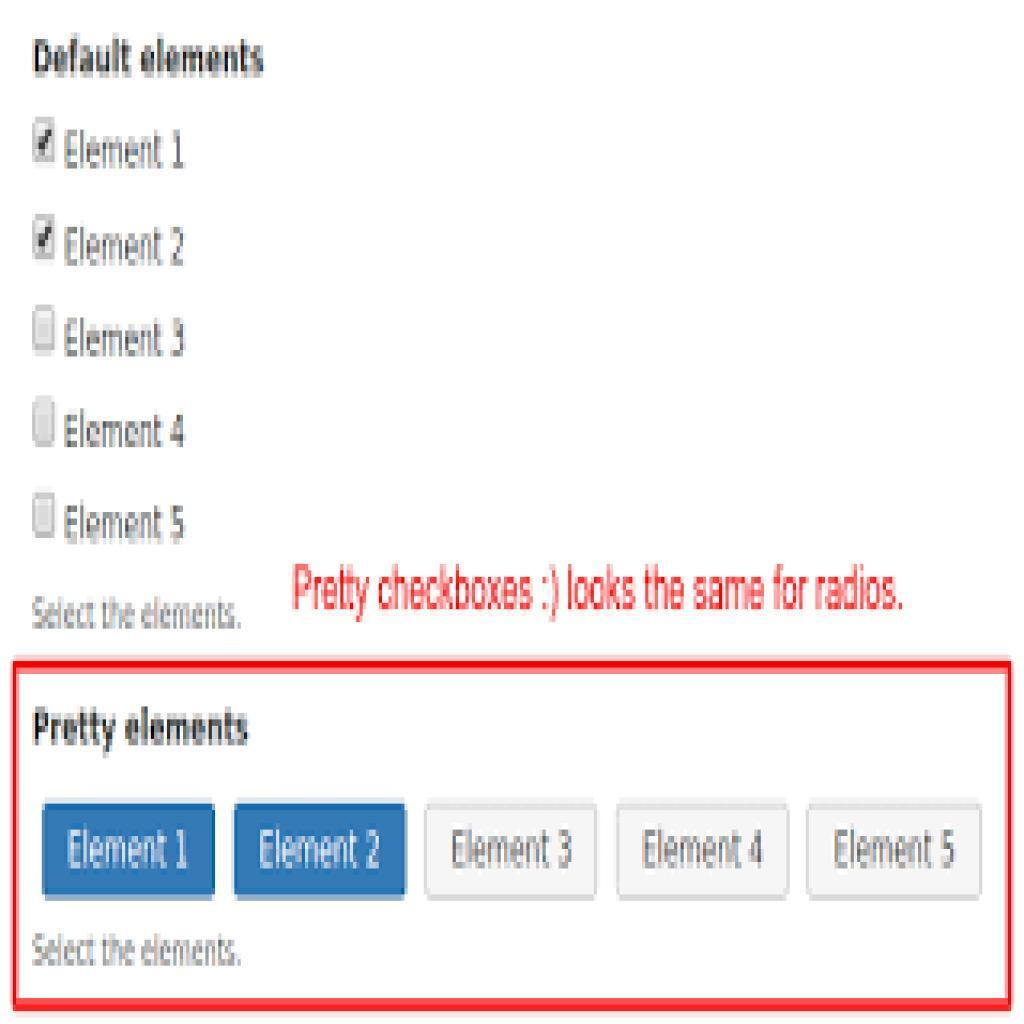button: (236, 801, 409, 899), (46, 805, 218, 902), (806, 805, 981, 900), (429, 804, 598, 900), (620, 804, 788, 900)
checkbox: (32, 399, 59, 447), (32, 119, 59, 165), (31, 494, 58, 539), (32, 304, 57, 351), (32, 214, 56, 261)
